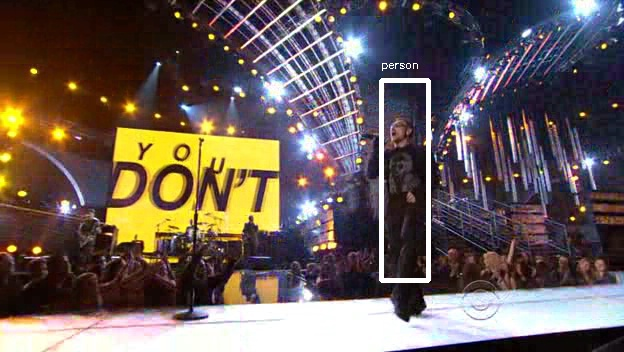person: (370, 116, 435, 224), (367, 116, 432, 224), (373, 116, 438, 224), (370, 113, 435, 221), (370, 119, 435, 227)
target_negative: (284, 115, 429, 264), (296, 266, 418, 306), (306, 268, 347, 347), (580, 114, 600, 210)
